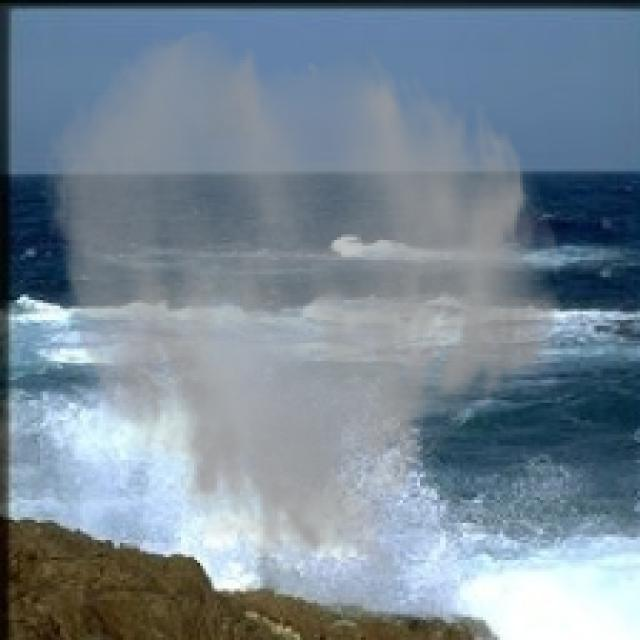Smoke: (40, 26, 566, 592)
